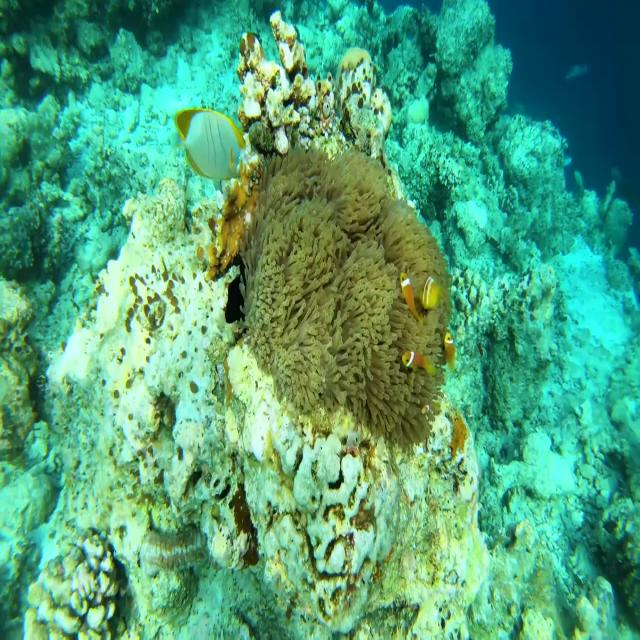fish: (165, 92, 255, 186), (402, 264, 422, 325), (421, 273, 441, 323), (401, 344, 431, 372), (446, 322, 458, 370)
